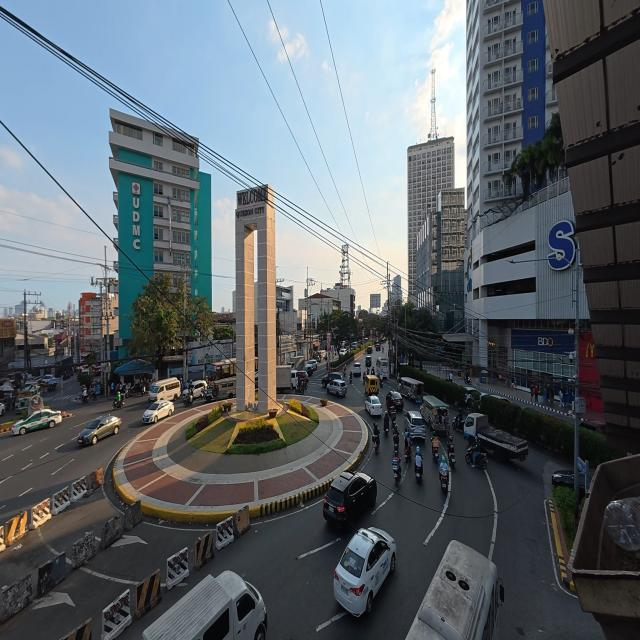car: (331, 525, 395, 617), (323, 469, 378, 531), (76, 414, 120, 447), (11, 410, 64, 434), (142, 399, 174, 425), (324, 376, 348, 397)
